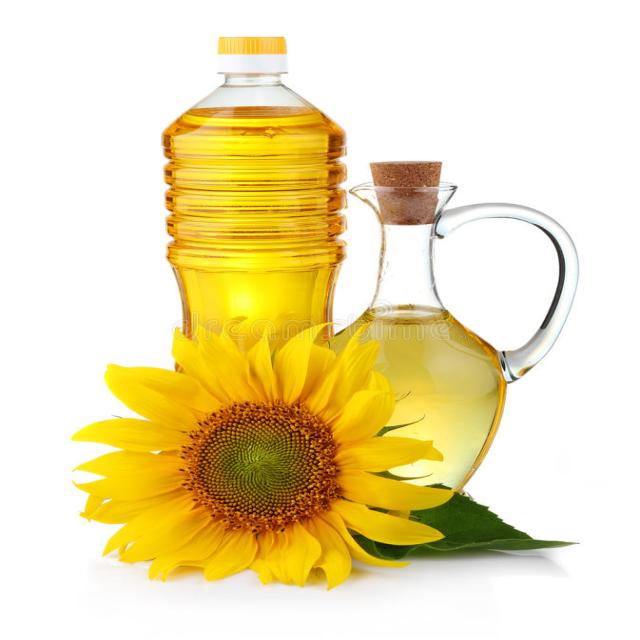sunflower: (59, 317, 454, 579)
